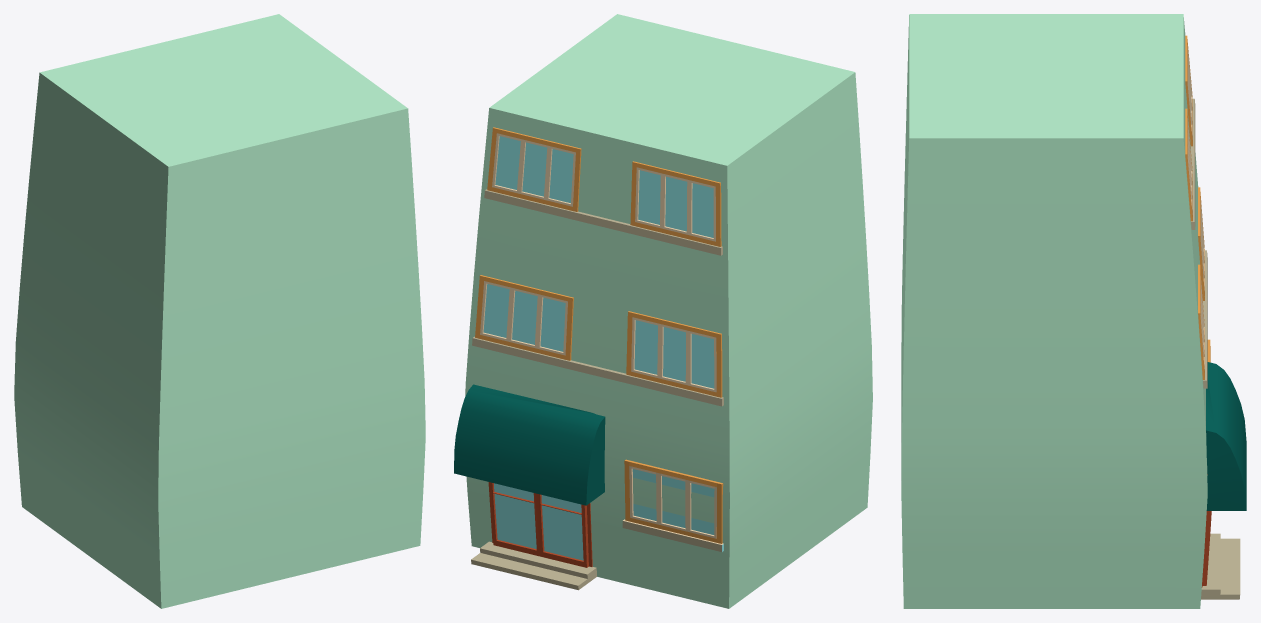
File: SM_Maison_01.glb
3 renders of one model, left to right at view 1: azimuth 30°, elevation 25°; view 2: azimuth 150°, elevation 25°; view 3: azimuth 270°, elevation 25°, orthographic. The views are drawn at different scales.
Visible parts, largest first — view 1: SM_maison_01; view 2: SM_maison_01; view 3: SM_maison_01.
Boxes of the visible parts, x1,y1,x2,y2 form: SM_maison_01: (14, 14, 425, 608); SM_maison_01: (454, 14, 872, 608); SM_maison_01: (901, 14, 1246, 608).
Bounding box in the file's own units: 17.57 × 27.46 × 18.46.
